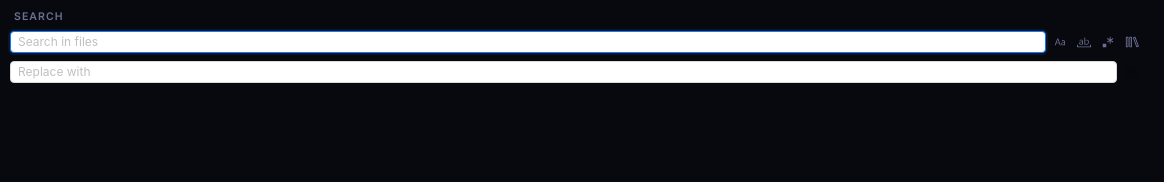
Test case: searching every project › says which project each result came from
This screenshot has width=1164, height=182.
Click the button named "search every project" at (1132,42), box [1122,31,1142,53]
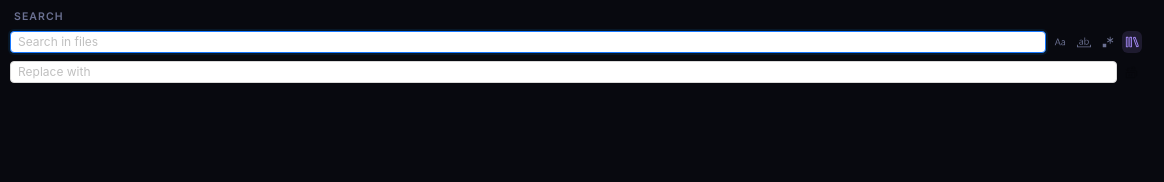
Type "pool" into the field with placeholder "Search in files" at (520,42), box [18,32,1022,52]
Wait 400 ms
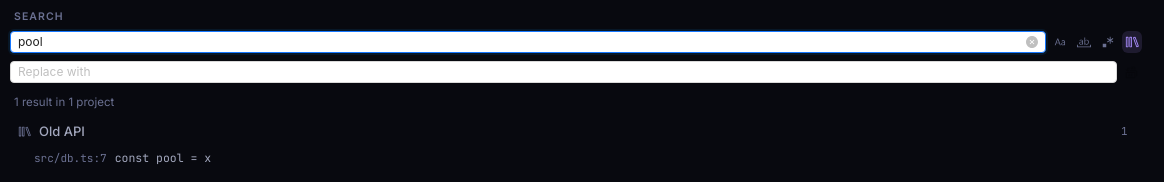
Result: the text "Old API" is shown at [39,123,85,139]
Result: the text "const pool = x" is shown at [115,150,211,165]
